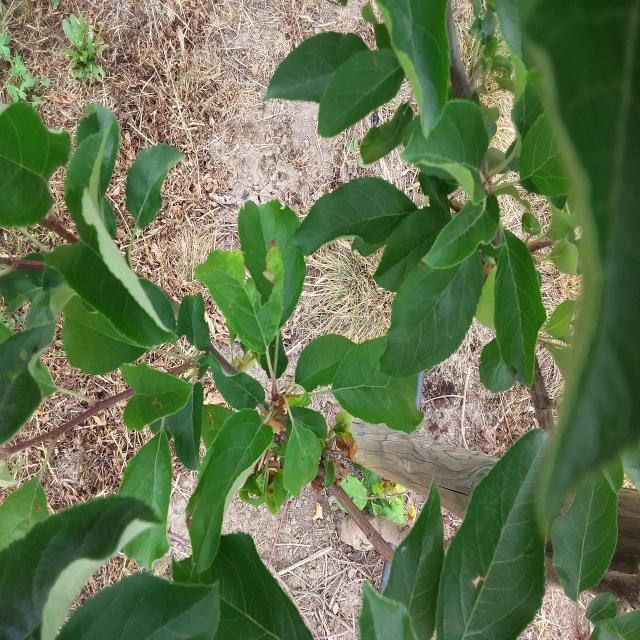-FireBlight-: (260, 378, 296, 437), (320, 430, 348, 489)
